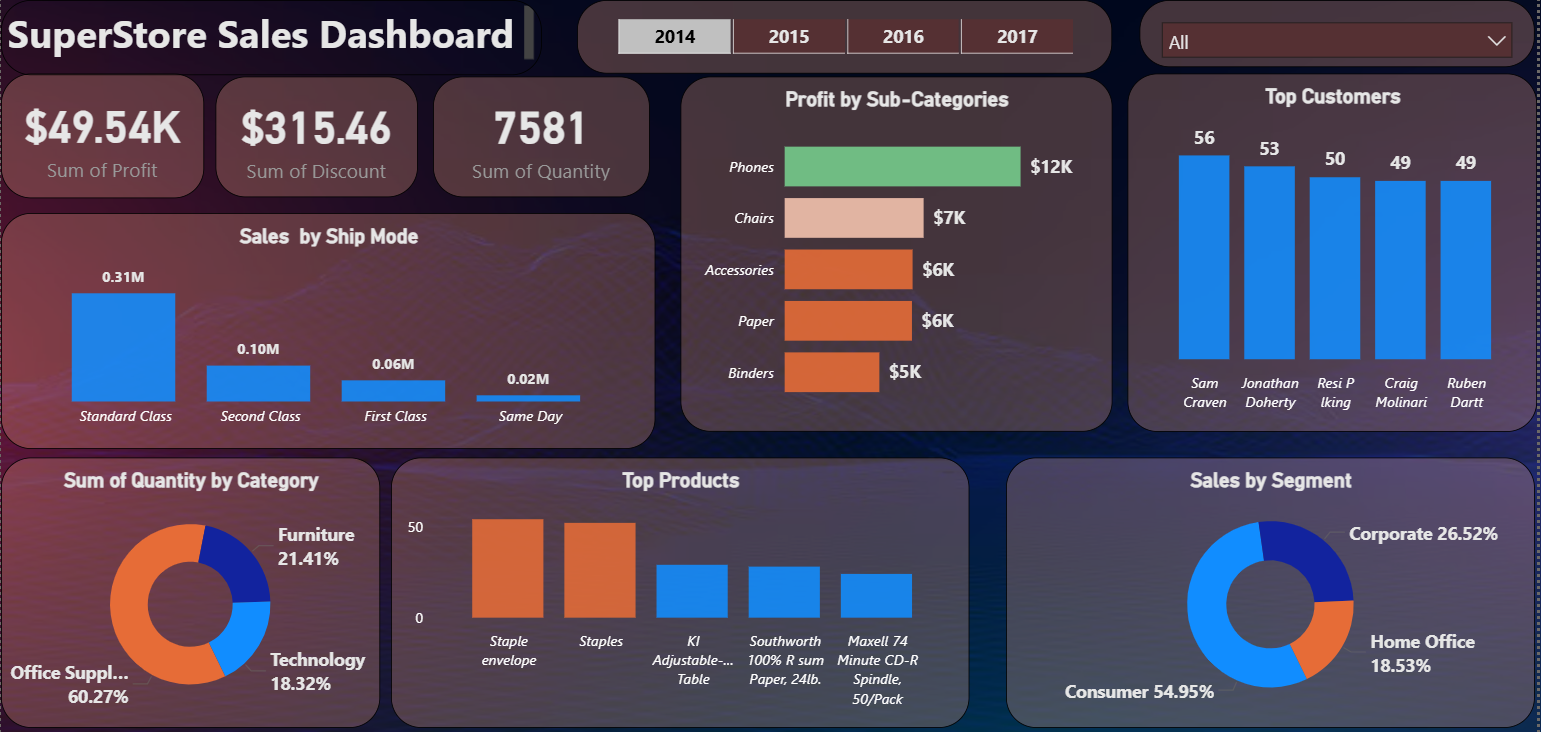

The page's visual inventory and layout, read from the dashboard file:
{"tool":"powerbi","page":{"name":"Page 1","canvas":[1280,720],"ordinal":0},"visuals":[{"type":"donutChart","title":"Sales by Segment","fields":{"Category":["superstore.Segment","superstore.Region"],"Y":["Sum(superstore.Sales)"]},"box":[837.6,380.9,440.7,225.6],"z":0},{"type":"donutChart","fields":{"Y":["Sum(superstore.Quantity)"],"Category":["superstore.Category"]},"box":[0,380.9,315.9,225.6],"z":1000},{"type":"slicer","title":"Select Region","fields":{"Values":["superstore.Region"]},"box":[949,0,329.2,55.7],"z":2000},{"type":"columnChart","title":"Sales  by Ship Mode","fields":{"Y":["Sum(superstore.Sales)"],"Category":["superstore.Ship Mode"]},"box":[0,177.9,545.5,196.4],"z":3000},{"type":"columnChart","title":"Top Customers","fields":{"Category":["superstore.Customer Name"],"Y":["Sum(superstore.Quantity)"]},"box":[938.4,61.1,341.1,298.7],"z":4000},{"type":"columnChart","title":"Top Products","fields":{"Category":["superstore.Product Name"],"Y":["Sum(superstore.Quantity)"]},"box":[325.2,380.9,481.8,225.6],"z":5000},{"type":"slicer","fields":{"Values":["superstore.Order Date.Variation.Date Hierarchy.Year"]},"box":[480.5,0,446,61.1],"z":6000},{"type":"treemap","title":"Profit by Sub-Categories","fields":{"Group":["superstore.Sub-Category"],"Values":["Sum(superstore.Profit)"]},"box":[566.8,63.7,359.7,296],"z":7000},{"type":"card","fields":{"Values":["Sum(superstore.Profit)"]},"box":[0,61.1,169.5,103.8],"z":8000},{"type":"card","fields":{"Values":["Sum(superstore.Discount)"]},"box":[179.2,63.7,168.6,100.9],"z":9000},{"type":"card","fields":{"Values":["Sum(superstore.Quantity)"]},"box":[359.7,63.7,180.5,100.9],"z":10000},{"type":"textbox","box":[0,0,450.6,62.9],"z":11000}]}

Visuals, with their boxes on the page's 1280x720 design canvas (x1, y1, x2, y2). These are canvas units, not pixel positions in the 1541x732 screenshot, which may show the page scaled, cropped or inside an application window:
"Sales by Segment" donutChart: select_region(838, 381, 1278, 606)
donutChart - Sum(superstore.Quantity) x superstore.Category: select_region(0, 381, 316, 606)
"Select Region" slicer: select_region(949, 0, 1278, 56)
"Sales  by Ship Mode" columnChart: select_region(0, 178, 546, 374)
"Top Customers" columnChart: select_region(938, 61, 1280, 360)
"Top Products" columnChart: select_region(325, 381, 807, 606)
slicer - superstore.Order Date.Variation.Date Hierarchy.Year: select_region(480, 0, 926, 61)
"Profit by Sub-Categories" treemap: select_region(567, 64, 926, 360)
card - Sum(superstore.Profit): select_region(0, 61, 170, 165)
card - Sum(superstore.Discount): select_region(179, 64, 348, 165)
card - Sum(superstore.Quantity): select_region(360, 64, 540, 165)
textbox: select_region(0, 0, 451, 63)
